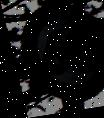Speed Limit -60-: (7, 0, 104, 112)
